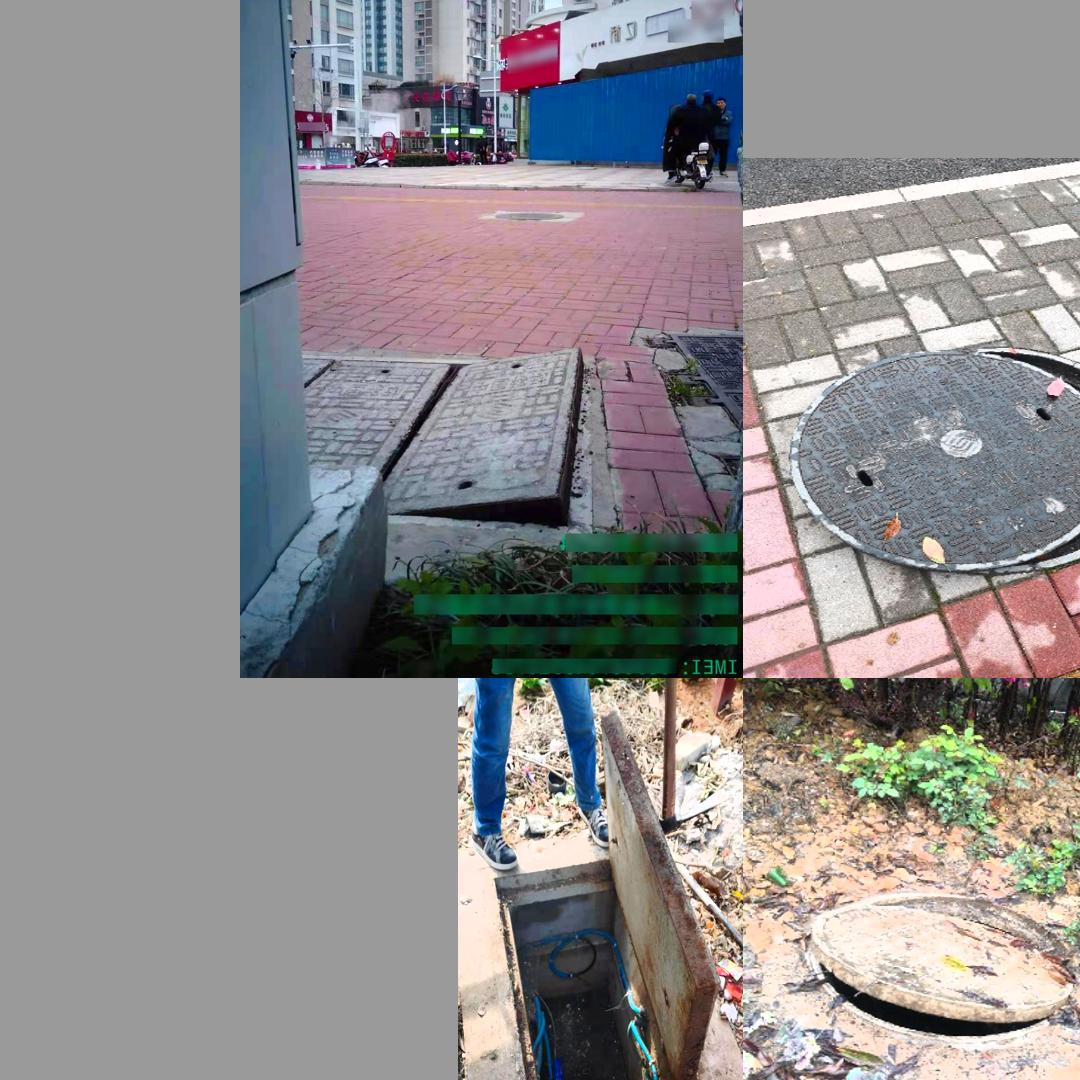uncovered: (490, 703, 714, 1080), (781, 352, 1080, 573), (305, 343, 597, 538), (811, 892, 1078, 1047)
